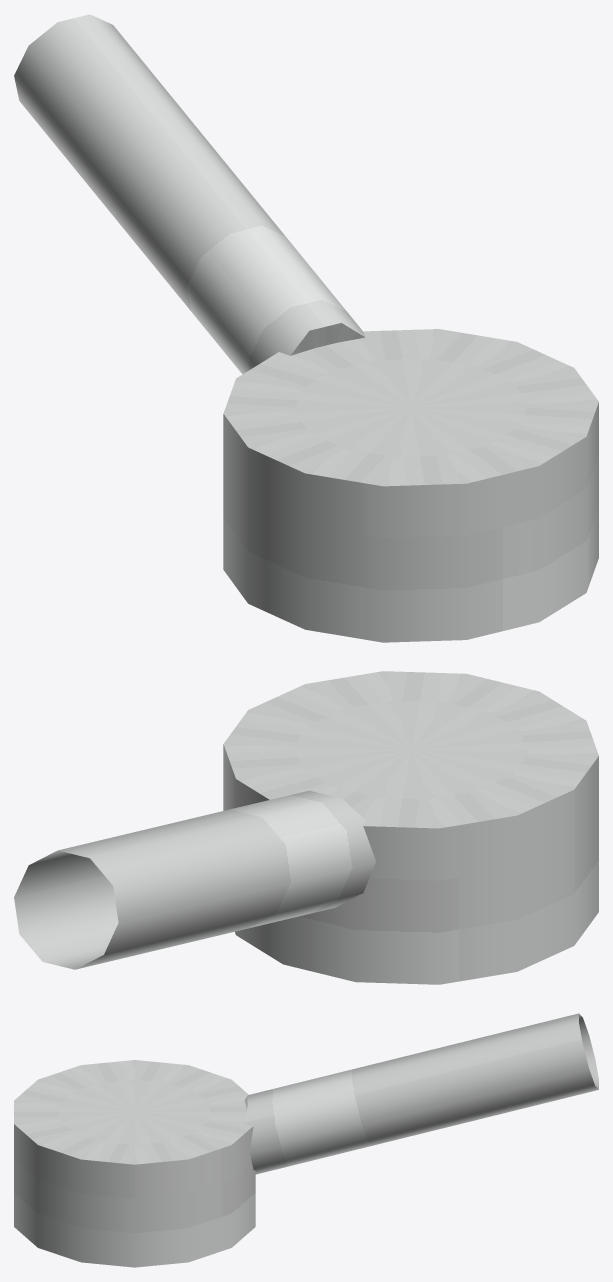
The model's file is trusssignalarm_sloped12_c1.obj.
The picture shows the model from 3 angles, top to bottom: view 1: azimuth 30°, elevation 25°; view 2: azimuth 150°, elevation 25°; view 3: azimuth 270°, elevation 25°; orthographic projection. The views are drawn at different scales.
Parts seen in each view (by area): view 1: trusssignalarm_sloped12_c1; view 2: trusssignalarm_sloped12_c1; view 3: trusssignalarm_sloped12_c1.
Boxes of the visible parts, box(x1,y1,x2,y2) form: trusssignalarm_sloped12_c1: box(14, 14, 598, 642); trusssignalarm_sloped12_c1: box(14, 671, 598, 984); trusssignalarm_sloped12_c1: box(14, 1013, 598, 1267).
Bounding box in the file's own units: 0.8188 × 0.7167 × 1.93.
